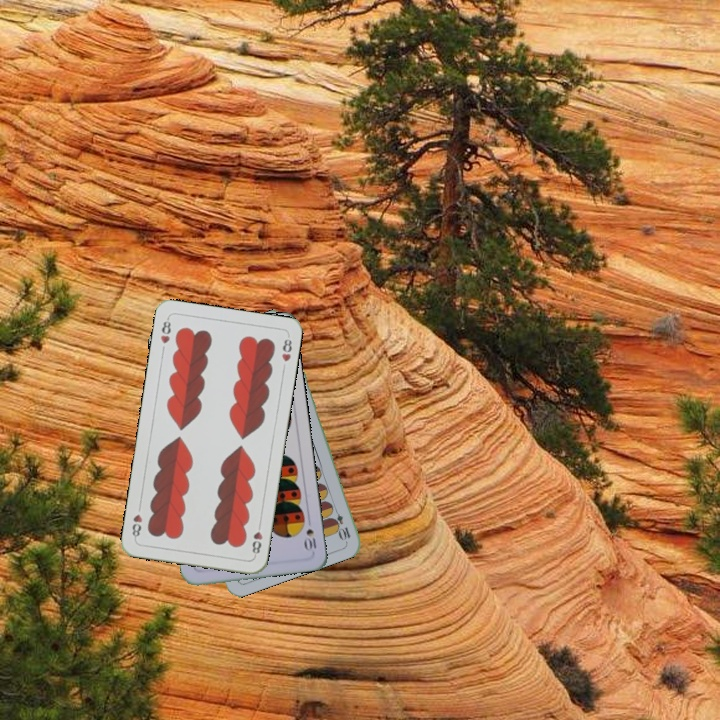E10: (329, 503, 353, 543)
H8: (248, 518, 265, 559), (156, 314, 173, 346)
S10: (301, 525, 319, 555)
